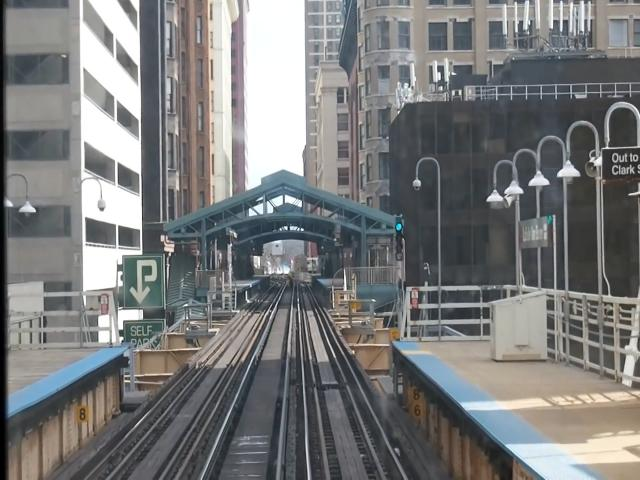signal light: (394, 216, 407, 265)
